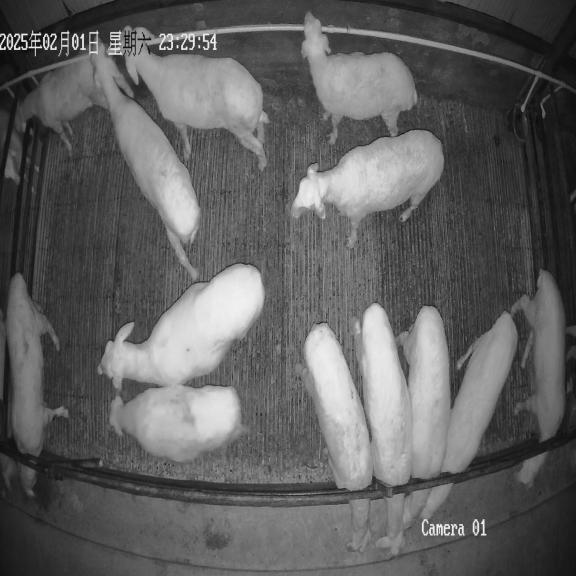drinking: (14, 40, 134, 154)
eating: (420, 311, 518, 519), (295, 323, 373, 552), (350, 303, 412, 556), (6, 273, 68, 497), (396, 306, 451, 529), (511, 270, 566, 487)
stand: (90, 44, 200, 280), (120, 25, 269, 170), (100, 263, 265, 389), (291, 129, 444, 248), (301, 12, 417, 145), (109, 385, 246, 463)
